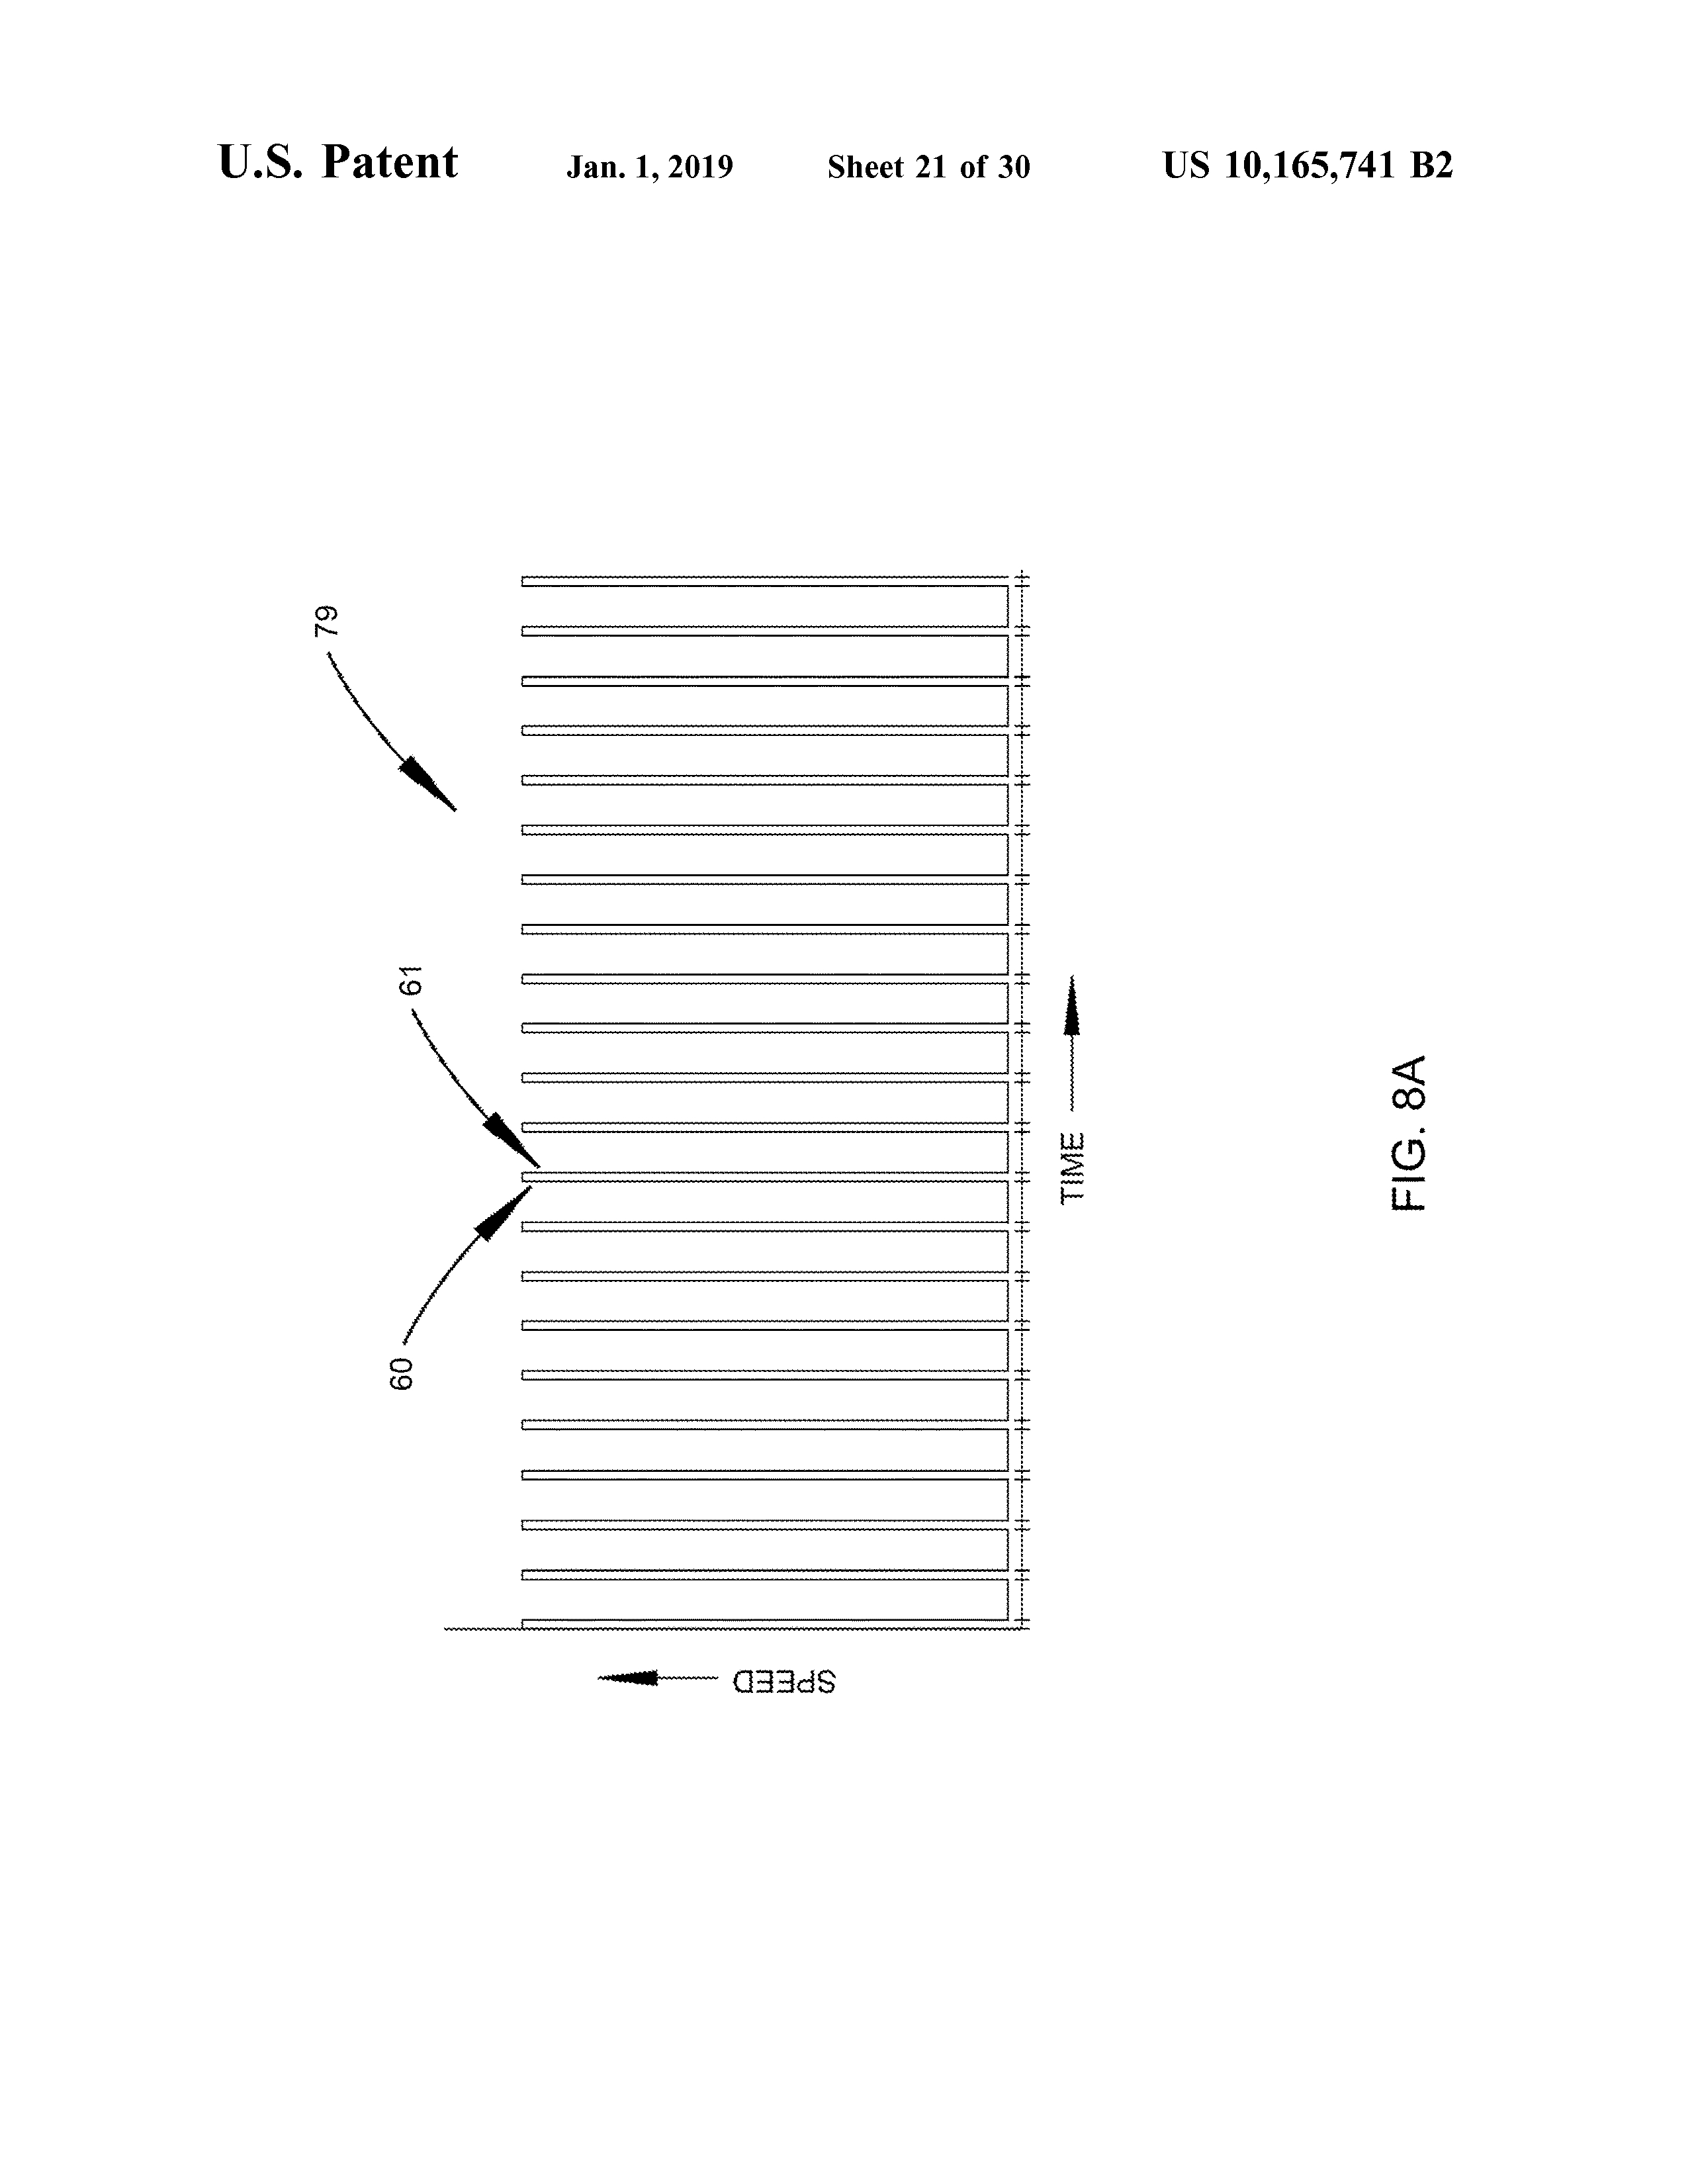patent image: (308, 521, 1468, 1712)
